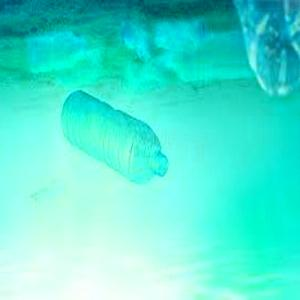Plastic: (58, 91, 172, 188), (22, 33, 107, 76)
